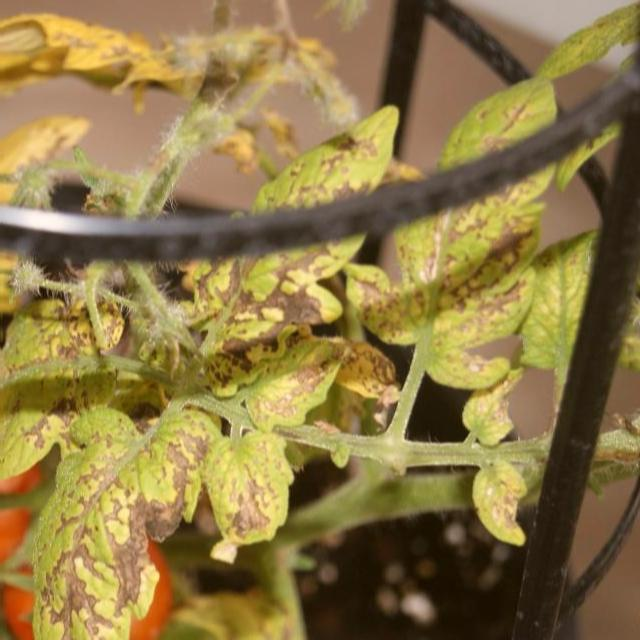Tomato leaf bacterial spot: (354, 76, 560, 410), (195, 90, 419, 358), (23, 383, 226, 640), (0, 290, 115, 484), (206, 422, 297, 563)
